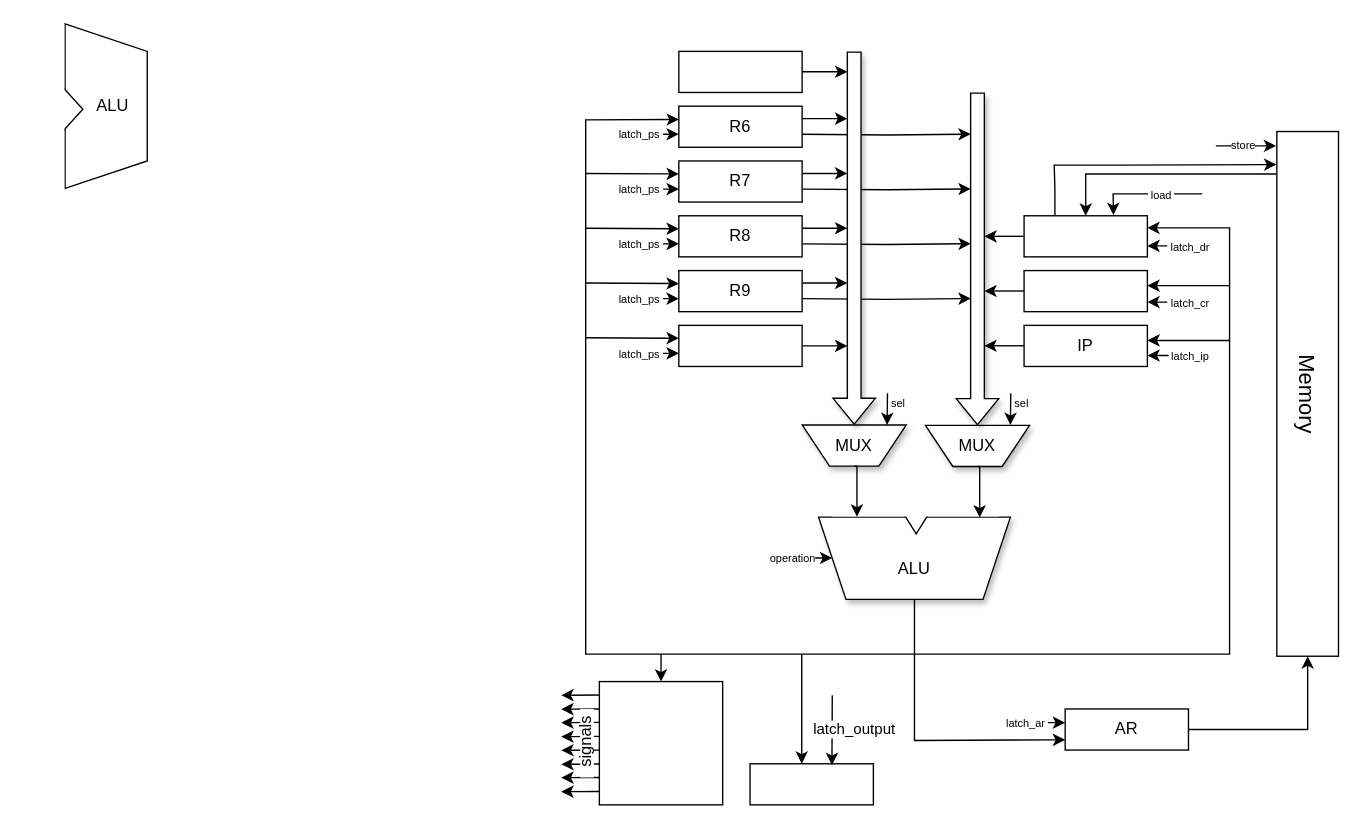
Some shapes in this 1362 by 829 pixel diagram are drawn without their labels. Here are the shapes that lost their labels. From the top down, the centre of each, then its label:
point 739,71: INPUT
point 1085,235: DR
point 1085,290: CR
point 739,345: PS
point 660,742: Control Unit
point 811,783: OUTPUT
